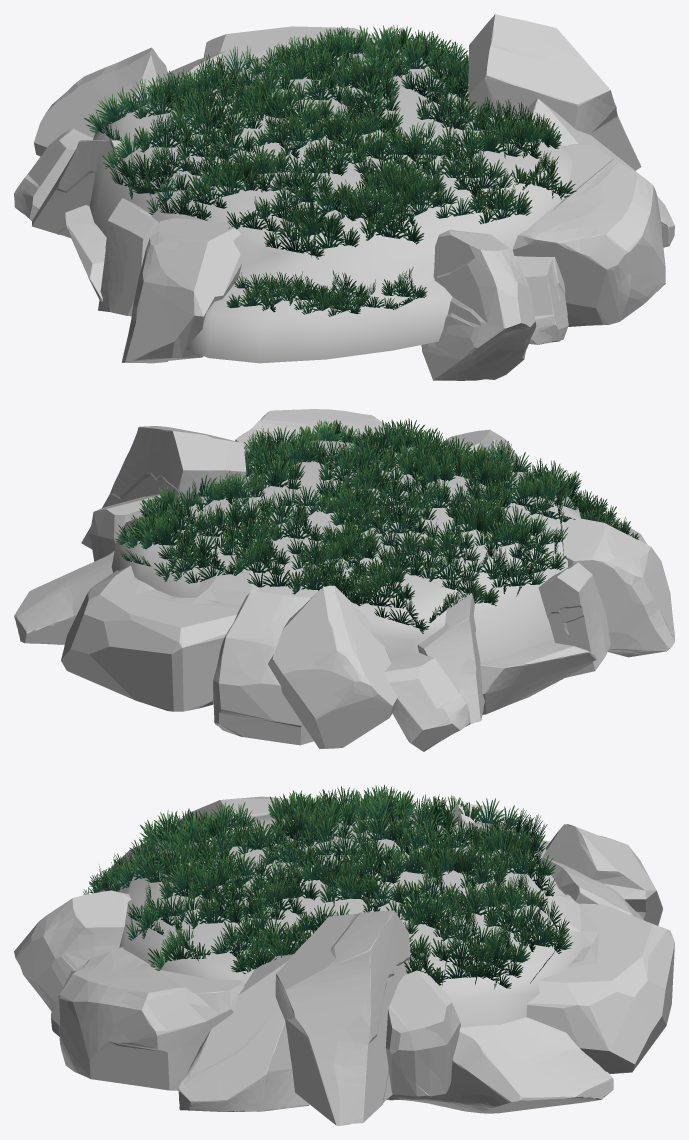
Rendered from sm_uv_05x_terrace3.fbx.
The picture shows the model from 3 angles, top to bottom: view 1: azimuth 30°, elevation 25°; view 2: azimuth 150°, elevation 25°; view 3: azimuth 270°, elevation 25°; orthographic projection. The views are drawn at different scales.
Visible parts, largest first — view 1: sm_grass_terrace05x3:ZBrushPolyMesh3D; view 2: sm_grass_terrace05x3:ZBrushPolyMesh3D; view 3: sm_grass_terrace05x3:ZBrushPolyMesh3D.
Boxes of the visible parts, x1=… form: sm_grass_terrace05x3:ZBrushPolyMesh3D: x1=14, y1=14, x2=674, y2=380; sm_grass_terrace05x3:ZBrushPolyMesh3D: x1=14, y1=409, x2=674, y2=751; sm_grass_terrace05x3:ZBrushPolyMesh3D: x1=14, y1=784, x2=674, y2=1125.
Size of the model in its own units: 910 by 329 by 920.
